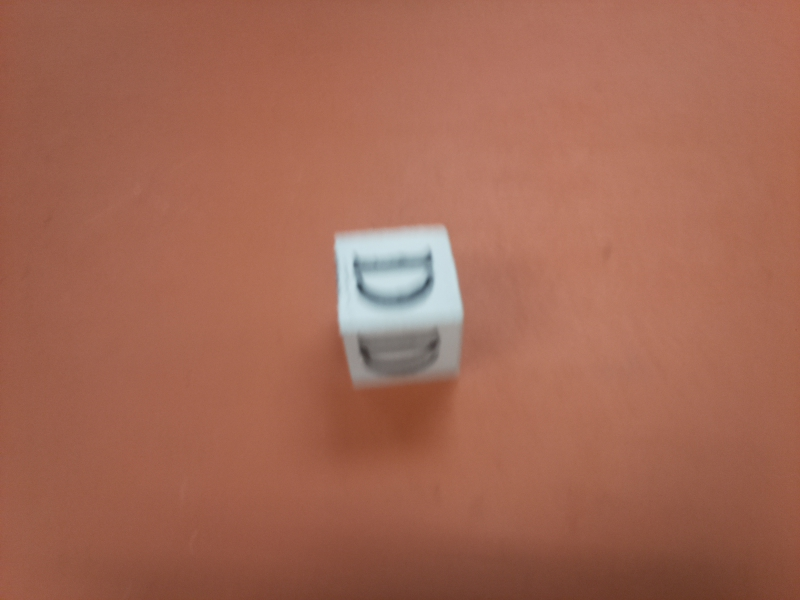blockD: (334, 227, 466, 390)
